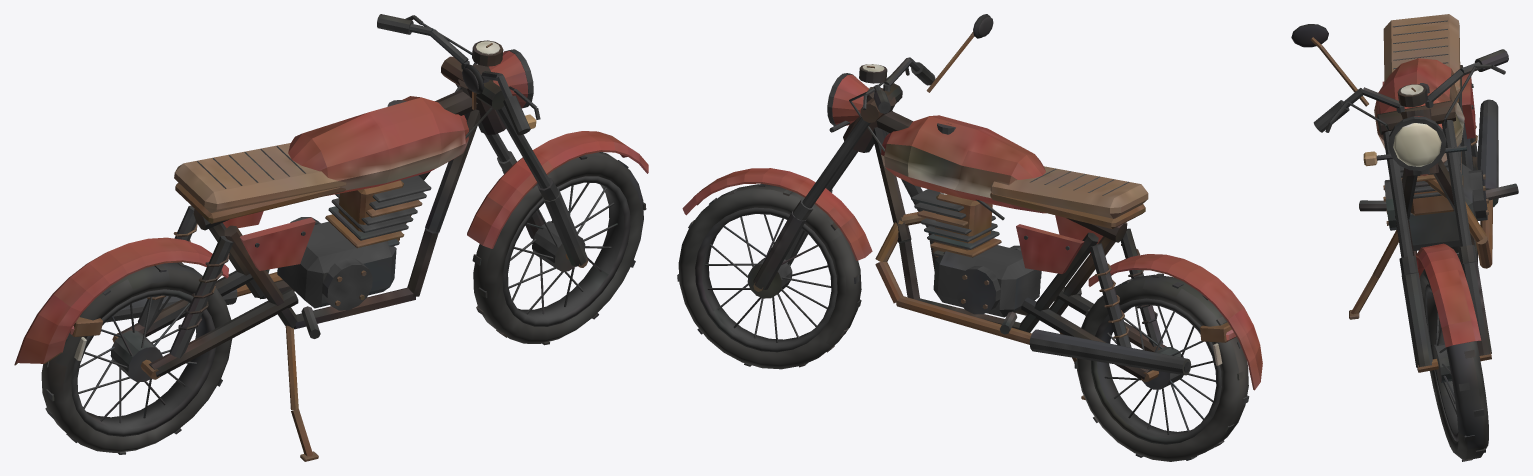
File: JV11_wrecked_motorcycle_v1.glb
3 renders of one model, left to right at view 1: azimuth 30°, elevation 25°; view 2: azimuth 150°, elevation 25°; view 3: azimuth 270°, elevation 25°, orthographic. The views are drawn at different scales.
Visible parts, largest first — view 1: Tyre; view 2: Tyre; view 3: Tyre.
Boxes of the visible parts, left/top/right/bottom form: Tyre: left=14, top=14, right=648, bottom=461; Tyre: left=677, top=14, right=1262, bottom=461; Tyre: left=1291, top=14, right=1518, bottom=461.
Bounding box in the file's own units: 2 × 1.13 × 0.648.
Materials: 11 (11 with a texture image).
